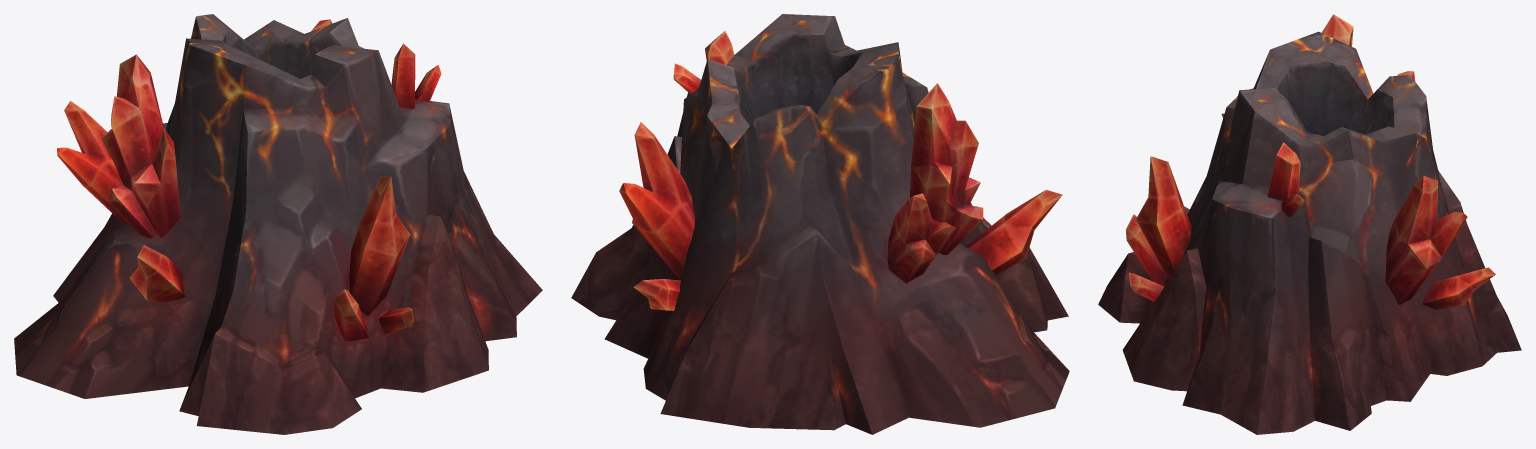
The model's file is emxh_yandong.fbx.
The picture shows the model from 3 angles, left to right: view 1: azimuth 30°, elevation 25°; view 2: azimuth 150°, elevation 25°; view 3: azimuth 270°, elevation 25°; orthographic projection. The views are drawn at different scales.
Visible parts, largest first — view 1: yandong_02; view 2: yandong_02; view 3: yandong_02.
Boxes of the visible parts, box(x1,y1,x2,y2) form: yandong_02: box(14, 14, 542, 434); yandong_02: box(571, 14, 1069, 434); yandong_02: box(1098, 14, 1521, 434).
Bounding box in the file's own units: 1006 × 591 × 856.
